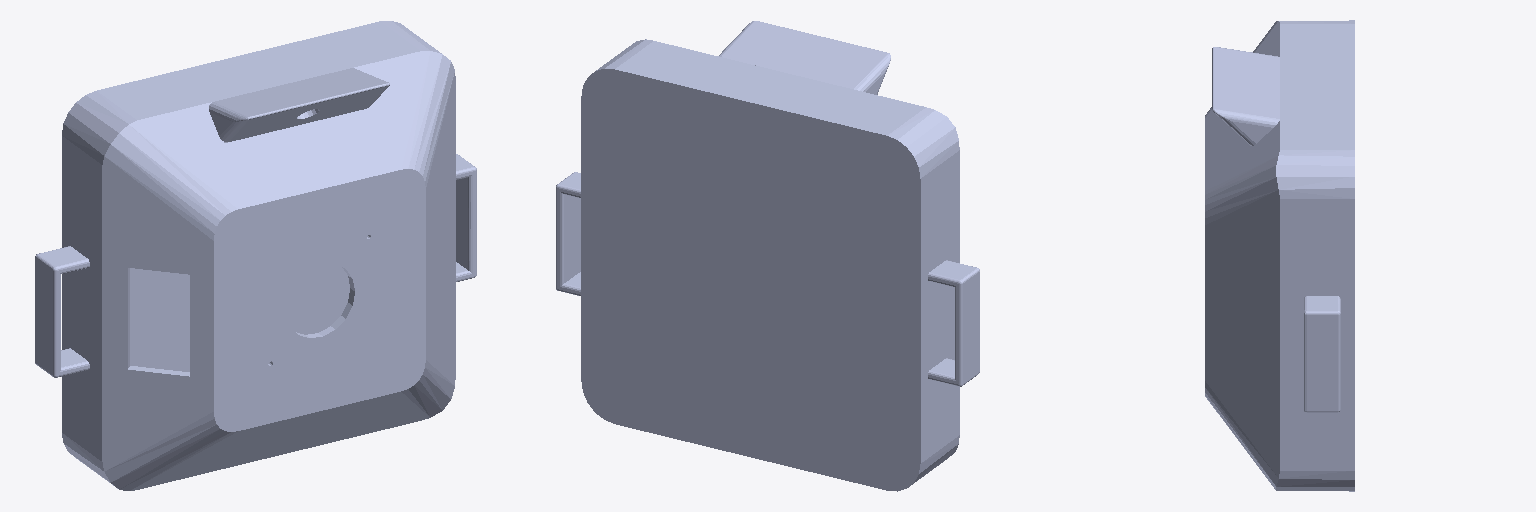
robot.urdf — Berth Fixture V4 Shell.SLDASM:
<?xml version="1.0" encoding="utf-8"?>
<!-- This URDF was automatically created by SolidWorks to URDF Exporter! Originally created by [author] ([email redacted]) 
     Commit Version: 1.6.0-4-g7f85cfe  Build Version: 1.6.7995.38578
     For more information, please see http://wiki.ros.org/sw_urdf_exporter -->
<robot
  name="Berth Fixture V4 Shell.SLDASM">
  <link
    name="base_link">
    <inertial>
      <origin
        xyz="0.0215224647317914 0.00128082404423123 -0.0052293732035698"
        rpy="0 0 0" />
      <mass
        value="0.703175905249134" />
      <inertia
        ixx="0.00588955182069366"
        ixy="-3.19375286995013E-07"
        ixz="-2.65645764256807E-05"
        iyy="0.00585494843517985"
        iyz="4.8114809434364E-06"
        izz="0.0103537675732883" />
    </inertial>
    <visual>
      <origin
        xyz="0 0 0"
        rpy="0 0 0" />
      <geometry>
        <mesh
          filename="package://astroberth/meshes/base_link.STL" />
      </geometry>
      <material
        name="">
        <color
          rgba="0.792156862745098 0.819607843137255 0.933333333333333 1" />
      </material>
    </visual>
    <collision>
      <origin
        xyz="0 0 0"
        rpy="0 0 0" />
      <geometry>
        <mesh
          filename="package://astroberth/meshes/base_link.STL" />
      </geometry>
    </collision>
  </link>
  <link
    name="link_1">
    <inertial>
      <origin
        xyz="-1.38777878078145E-17 0.003 1.56125112837913E-17"
        rpy="0 0 0" />
      <mass
        value="0.349524689687676" />
      <inertia
        ixx="0.00169054996882395"
        ixy="4.84676140167788E-22"
        ixz="-2.64697796016969E-20"
        iyy="0.00337900278950978"
        iyz="-7.48472025278472E-20"
        izz="0.00169054996882395" />
    </inertial>
    <visual>
      <origin
        xyz="0 0 0"
        rpy="0 0 0" />
      <geometry>
        <mesh
          filename="package://astroberth/meshes/link_1.STL" />
      </geometry>
      <material
        name="">
        <color
          rgba="0.792156862745098 0.819607843137255 0.933333333333333 1" />
      </material>
    </visual>
    <collision>
      <origin
        xyz="0 0 0"
        rpy="0 0 0" />
      <geometry>
        <mesh
          filename="package://astroberth/meshes/link_1.STL" />
      </geometry>
    </collision>
  </link>
  <joint
    name="backplate"
    type="fixed">
    <origin
      xyz="0.019151 0.056934 0.0029863"
      rpy="0 0 0" />
    <parent
      link="base_link" />
    <child
      link="link_1" />
    <axis
      xyz="0 0 0" />
  </joint>
  <link
    name="link_2">
    <inertial>
      <origin
        xyz="2.16840434497101E-17 0.0180965368898085 6.93889390390723E-18"
        rpy="0 0 0" />
      <mass
        value="0.0170895647574832" />
      <inertia
        ixx="1.71077379001631E-06"
        ixy="-5.77276356547167E-23"
        ixz="2.63030860992105E-11"
        iyy="1.34498303816599E-05"
        iyz="4.55413398946975E-22"
        izz="1.3398839472784E-05" />
    </inertial>
    <visual>
      <origin
        xyz="0 0 0"
        rpy="0 0 0" />
      <geometry>
        <mesh
          filename="package://astroberth/meshes/link_2.STL" />
      </geometry>
      <material
        name="">
        <color
          rgba="0.792156862745098 0.819607843137255 0.933333333333333 1" />
      </material>
    </visual>
    <collision>
      <origin
        xyz="0 0 0"
        rpy="0 0 0" />
      <geometry>
        <mesh
          filename="package://astroberth/meshes/link_2.STL" />
      </geometry>
    </collision>
  </link>
  <joint
    name="Left_handle"
    type="fixed">
    <origin
      xyz="-0.10785 0.040817 -0.0046588"
      rpy="1.5708 -1.5708 0" />
    <parent
      link="base_link" />
    <child
      link="link_2" />
    <axis
      xyz="0 0 0" />
  </joint>
  <link
    name="link_3">
    <inertial>
      <origin
        xyz="1.47451495458029E-17 0.0180965368898084 2.08166817117217E-17"
        rpy="0 0 0" />
      <mass
        value="0.0170895647574832" />
      <inertia
        ixx="1.71077379001631E-06"
        ixy="1.43835991966426E-21"
        ixz="2.63030860991839E-11"
        iyy="1.34498303816599E-05"
        iyz="4.38993175322132E-22"
        izz="1.3398839472784E-05" />
    </inertial>
    <visual>
      <origin
        xyz="0 0 0"
        rpy="0 0 0" />
      <geometry>
        <mesh
          filename="package://astroberth/meshes/link_3.STL" />
      </geometry>
      <material
        name="">
        <color
          rgba="0.792156862745098 0.819607843137255 0.933333333333333 1" />
      </material>
    </visual>
    <collision>
      <origin
        xyz="0 0 0"
        rpy="0 0 0" />
      <geometry>
        <mesh
          filename="package://astroberth/meshes/link_3.STL" />
      </geometry>
    </collision>
  </link>
  <joint
    name="right_handle"
    type="fixed">
    <origin
      xyz="0.14615 0.04089 -0.0062057"
      rpy="1.5708 1.5708 0" />
    <parent
      link="base_link" />
    <child
      link="link_3" />
    <axis
      xyz="0 0 0" />
  </joint>
  <link
    name="link_4">
    <inertial>
      <origin
        xyz="-3.58514482174527E-07 0.015112589436889 0.00497743872995415"
        rpy="0 0 0" />
      <mass
        value="0.0439772151330061" />
      <inertia
        ixx="6.31905054767043E-06"
        ixy="3.05117901945839E-11"
        ixz="-1.27191744394201E-10"
        iyy="4.85472534463722E-05"
        iyz="-1.4734504592263E-06"
        izz="5.0237994269786E-05" />
    </inertial>
    <visual>
      <origin
        xyz="0 0 0"
        rpy="0 0 0" />
      <geometry>
        <mesh
          filename="package://astroberth/meshes/link_4.STL" />
      </geometry>
      <material
        name="">
        <color
          rgba="0.792156862745098 0.819607843137255 0.933333333333333 1" />
      </material>
    </visual>
    <collision>
      <origin
        xyz="0 0 0"
        rpy="0 0 0" />
      <geometry>
        <mesh
          filename="package://astroberth/meshes/link_4.STL" />
      </geometry>
    </collision>
  </link>
  <joint
    name="camera"
    type="fixed">
    <origin
      xyz="0.021341 0.002235 0.12009"
      rpy="2.3562 0 0" />
    <parent
      link="base_link" />
    <child
      link="link_4" />
    <axis
      xyz="0 0 0" />
  </joint>
</robot>

--- Facts derived from the render (not from the file) ---
The picture shows the robot from 3 angles, left to right: view 1: azimuth 30°, elevation 25°; view 2: azimuth 150°, elevation 25°; view 3: azimuth 270°, elevation 25°; orthographic projection.
Model Berth Fixture V4 Shell.SLDASM with 5 links and 4 joints (4 fixed), rooted at base_link, posed all joints at 0.
Links seen in each view (by area): view 1: base_link, link_1, link_4, link_2, link_3; view 2: link_1, base_link, link_4, link_2, link_3; view 3: base_link, link_4, link_3.
Boxes of the visible links, bbox=[...] form: base_link: bbox=[62, 21, 455, 490]; link_1: bbox=[130, 142, 349, 371]; link_4: bbox=[209, 68, 389, 141]; link_2: bbox=[35, 246, 89, 377]; link_3: bbox=[456, 154, 476, 281]; link_1: bbox=[589, 77, 912, 482]; base_link: bbox=[581, 39, 959, 491]; link_4: bbox=[719, 21, 890, 94]; link_2: bbox=[928, 260, 979, 386]; link_3: bbox=[556, 172, 580, 295]; base_link: bbox=[1205, 20, 1354, 491]; link_4: bbox=[1212, 47, 1279, 145]; link_3: bbox=[1304, 296, 1340, 412].
Bounding box of the posed robot: 0.3048 × 0.1016 × 0.2619 m (x, y, z).
5 mesh visuals loaded from 5 distinct referenced files (5 binary STL).
